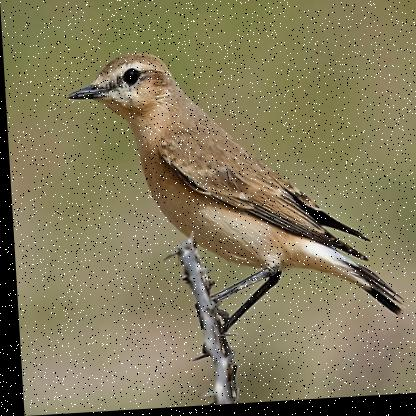Burung: (65, 44, 402, 342)
